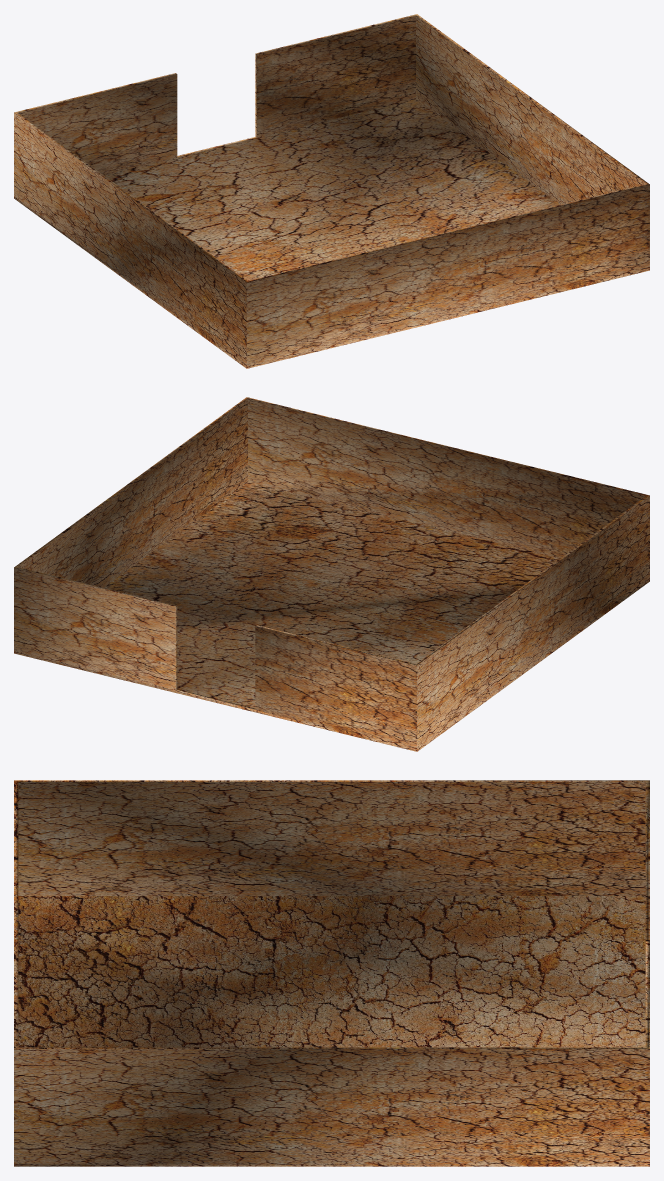
File: Nodo10.obj
The picture shows the model from 3 angles, top to bottom: view 1: azimuth 30°, elevation 25°; view 2: azimuth 150°, elevation 25°; view 3: azimuth 270°, elevation 25°; orthographic projection. The views are drawn at different scales.
Parts seen in each view (by area): view 1: Nodo033; view 2: Nodo033; view 3: Nodo033.
Part boxes in pixels (x1=…): Nodo033: x1=14, y1=14, x2=649, y2=368; Nodo033: x1=14, y1=397, x2=649, y2=751; Nodo033: x1=14, y1=780, x2=649, y2=1166.
Size of the model in its own units: 598 by 122 by 598.
